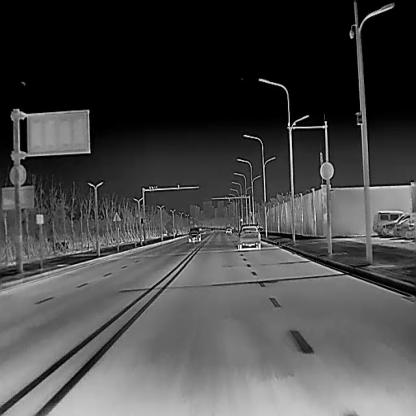car: (372, 208, 405, 233), (382, 214, 416, 236), (236, 223, 261, 248), (187, 225, 200, 241), (225, 226, 231, 234)
